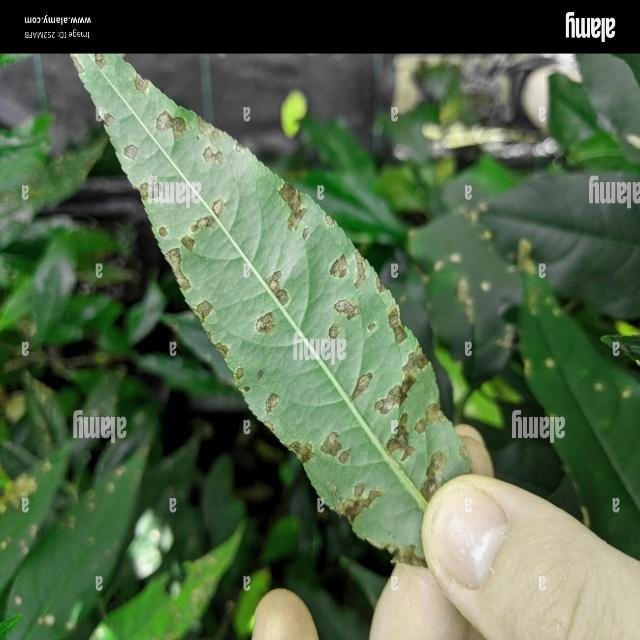leaf_spot: (134, 86, 382, 591)
